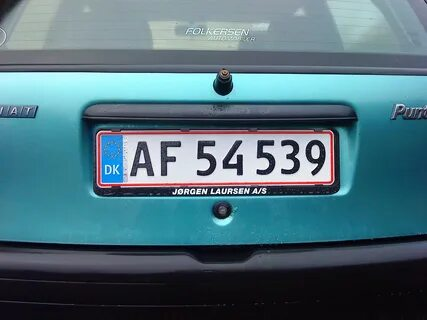number_plate: (95, 127, 334, 187)
